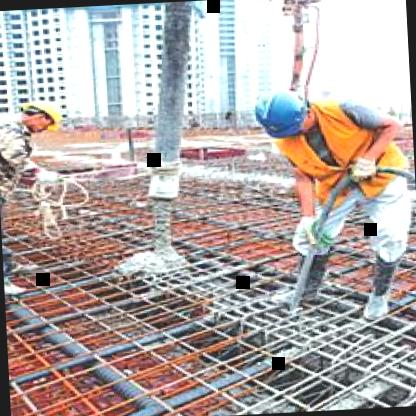helmet: (256, 83, 310, 147), (16, 96, 65, 132)
